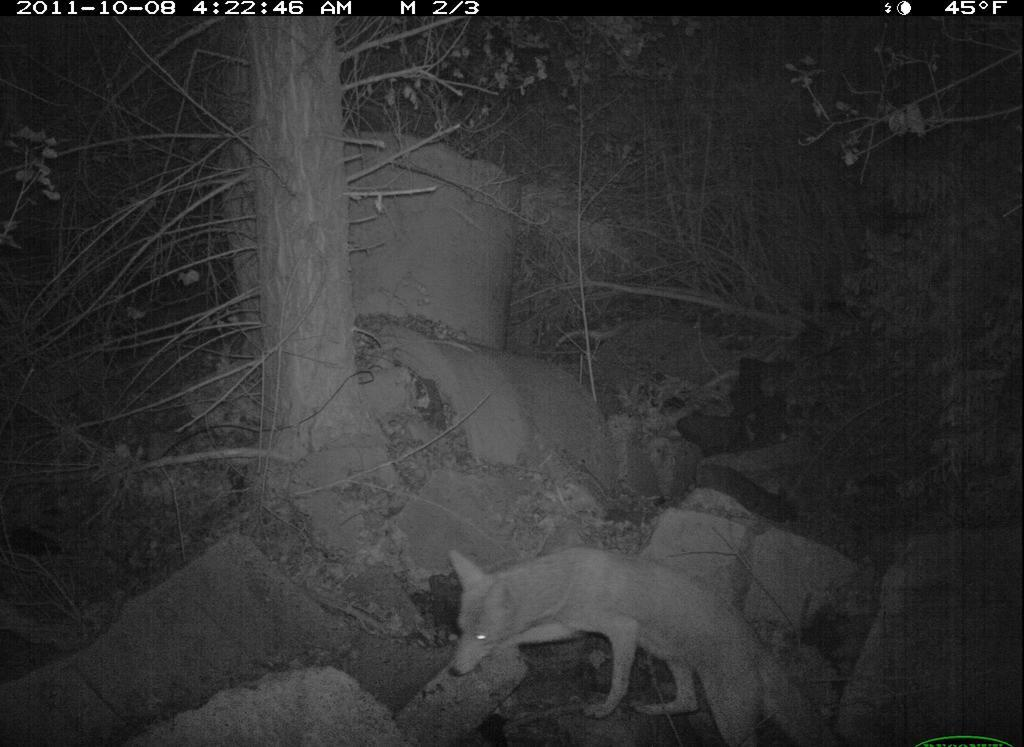coyote: (433, 525, 827, 747)
